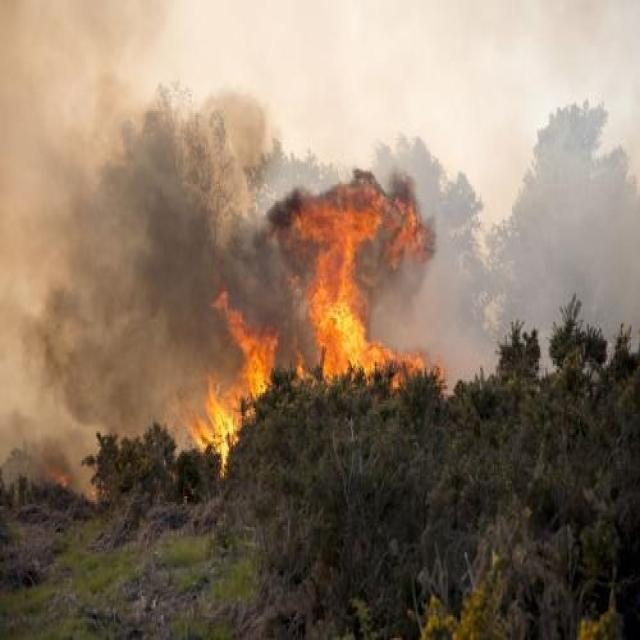Fire: (183, 170, 444, 483)
Smoke: (1, 2, 640, 508)
